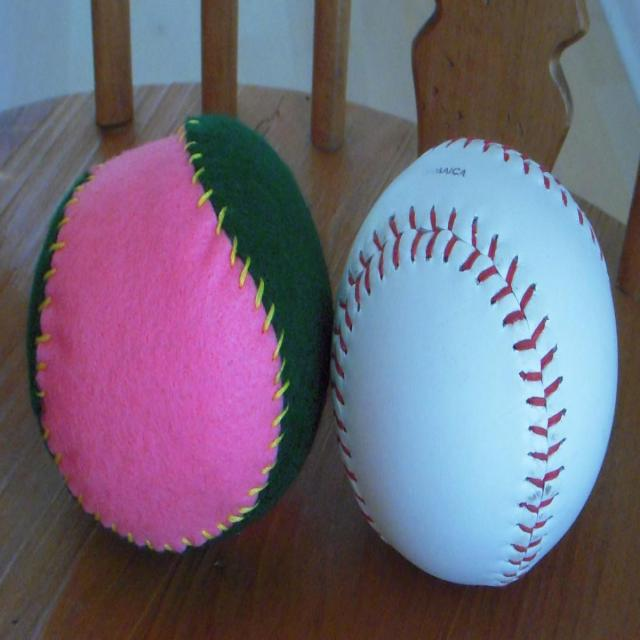baseball: (331, 133, 619, 591)
